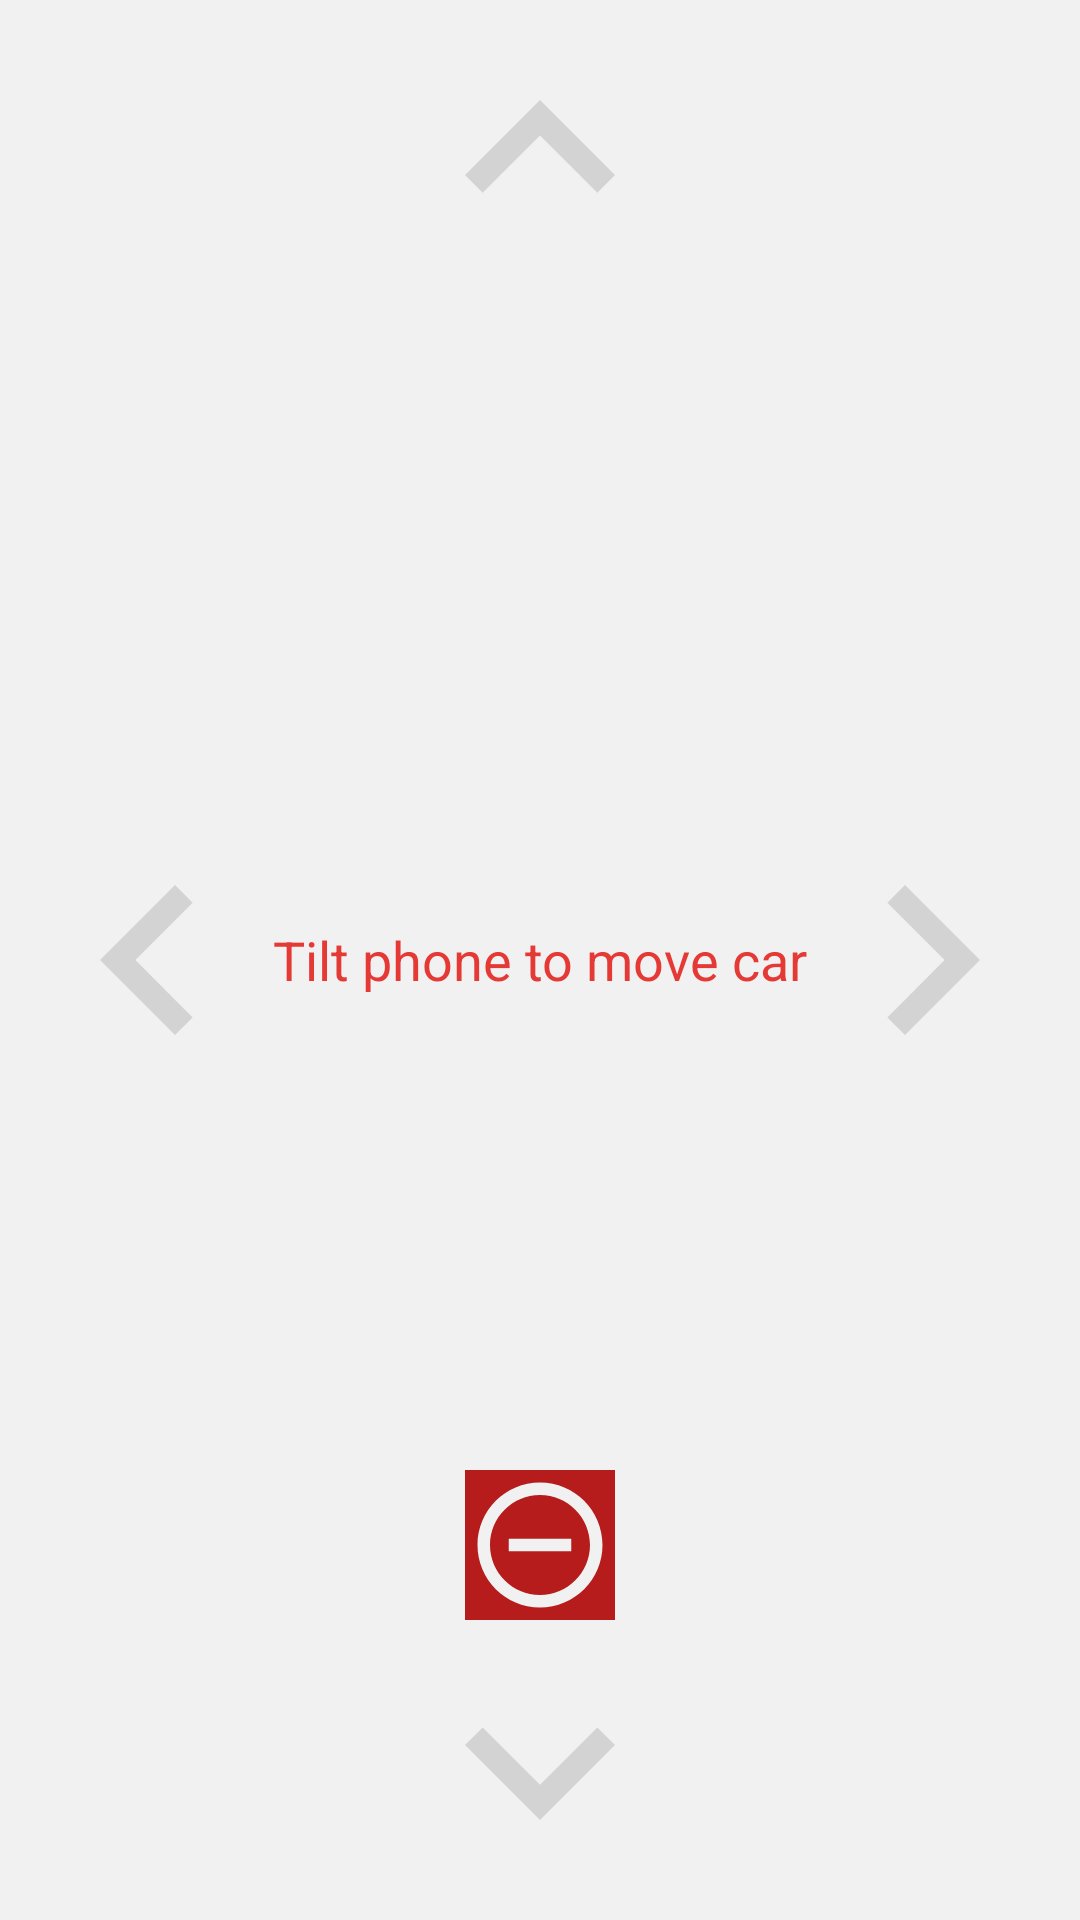

Where icons sit on this 1080*1920 app screen, as (x1,y1,x2,y2):
chevron left: (101,886,300,1034)
chevron right: (792,886,979,1034)
expand less: (466,101,614,192)
expand more: (466,1728,614,1819)
